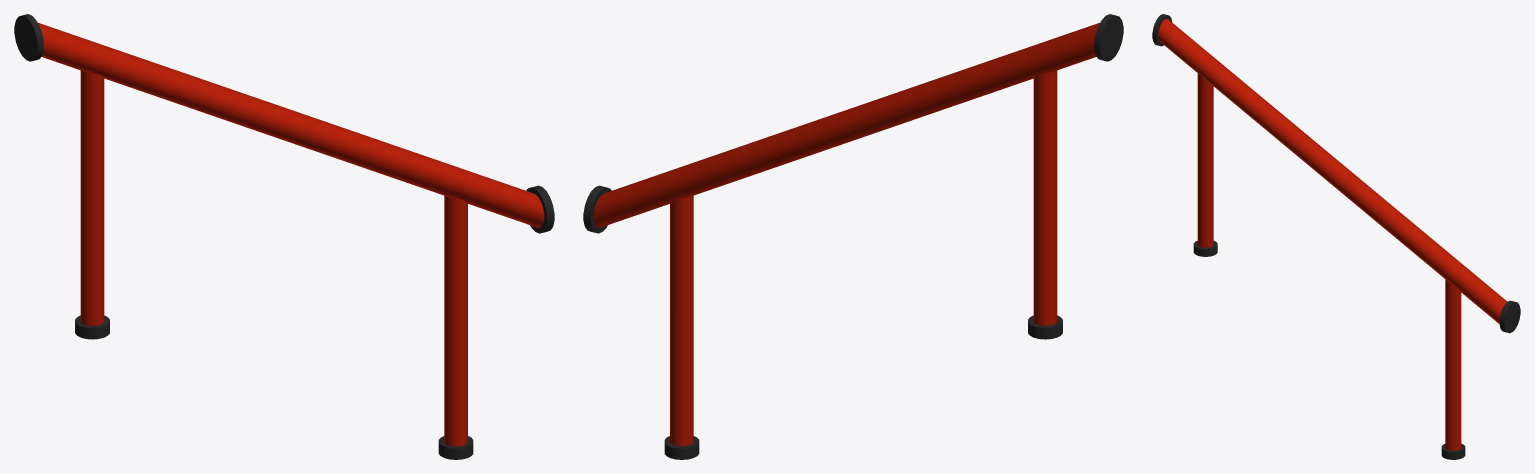
File: S_assete_barrier_4.fbx
The picture shows the model from 3 angles, left to right: view 1: azimuth 30°, elevation 25°; view 2: azimuth 150°, elevation 25°; view 3: azimuth 330°, elevation 25°; orthographic projection. The views are drawn at different scales.
Visible parts, largest first — view 1: Cylinder022; view 2: Cylinder022; view 3: Cylinder022.
Part boxes in pixels (bbox=[...]): Cylinder022: bbox=[14, 14, 554, 459]; Cylinder022: bbox=[583, 14, 1123, 459]; Cylinder022: bbox=[1152, 14, 1520, 459].
Bounding box in the file's own units: 199 × 199 × 15.55.
